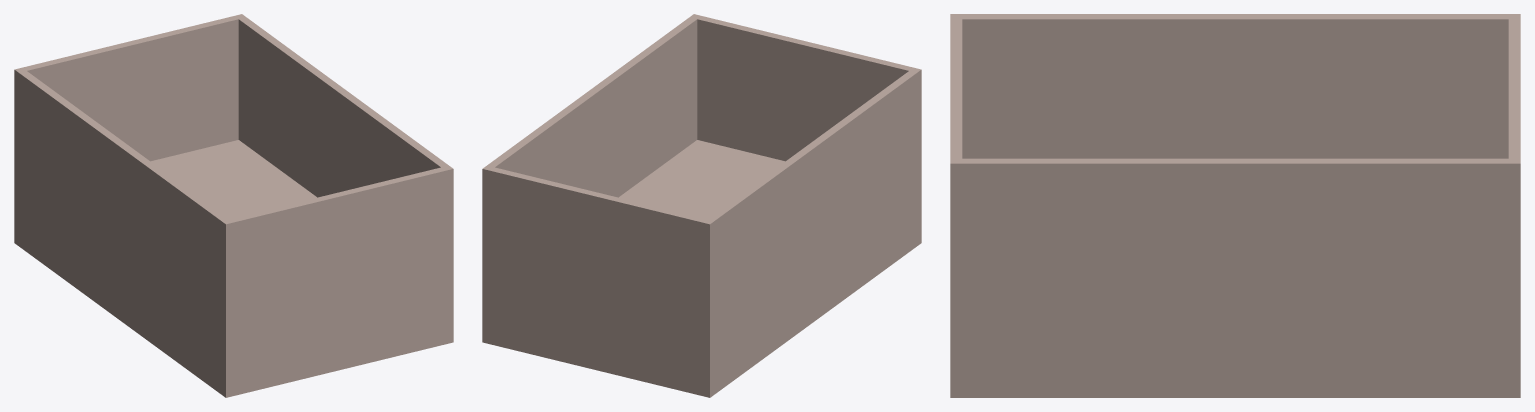
Rendered from SM_box_snacks_05.fbx.
The picture shows the model from 3 angles, left to right: view 1: azimuth 30°, elevation 25°; view 2: azimuth 150°, elevation 25°; view 3: azimuth 270°, elevation 25°; orthographic projection. The views are drawn at different scales.
Parts seen in each view (by area): view 1: box_snacks_05; view 2: box_snacks_05; view 3: box_snacks_05.
Part boxes in pixels (x1,y1,x2,y2): box_snacks_05: (14,14,453,397); box_snacks_05: (482,14,921,397); box_snacks_05: (950,14,1520,397).
Size of the model in its own units: 25.73 by 18.75 by 41.42.
